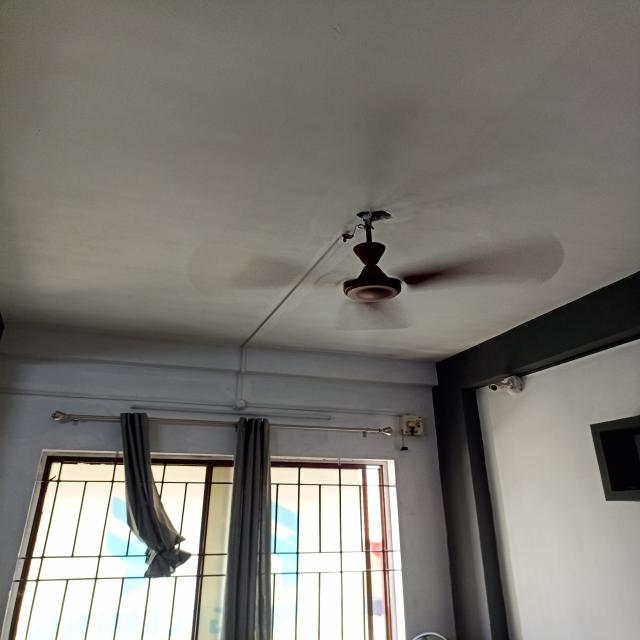fan: (175, 194, 564, 336)
